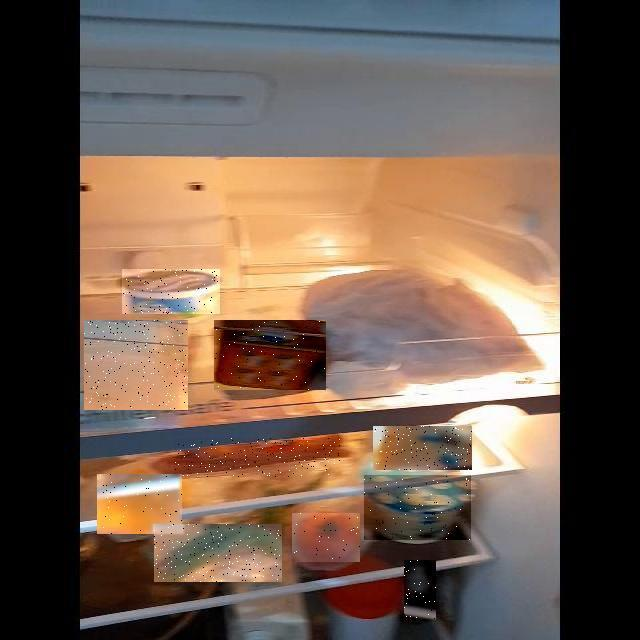carrot: (3, 238, 345, 640)
cheese: (0, 205, 178, 615)
